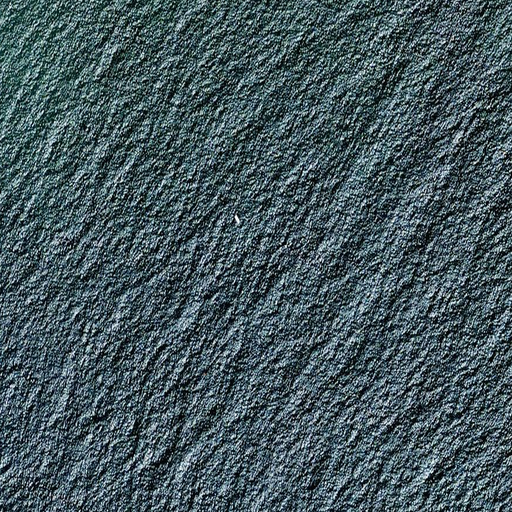ship: (233, 213, 242, 225)
